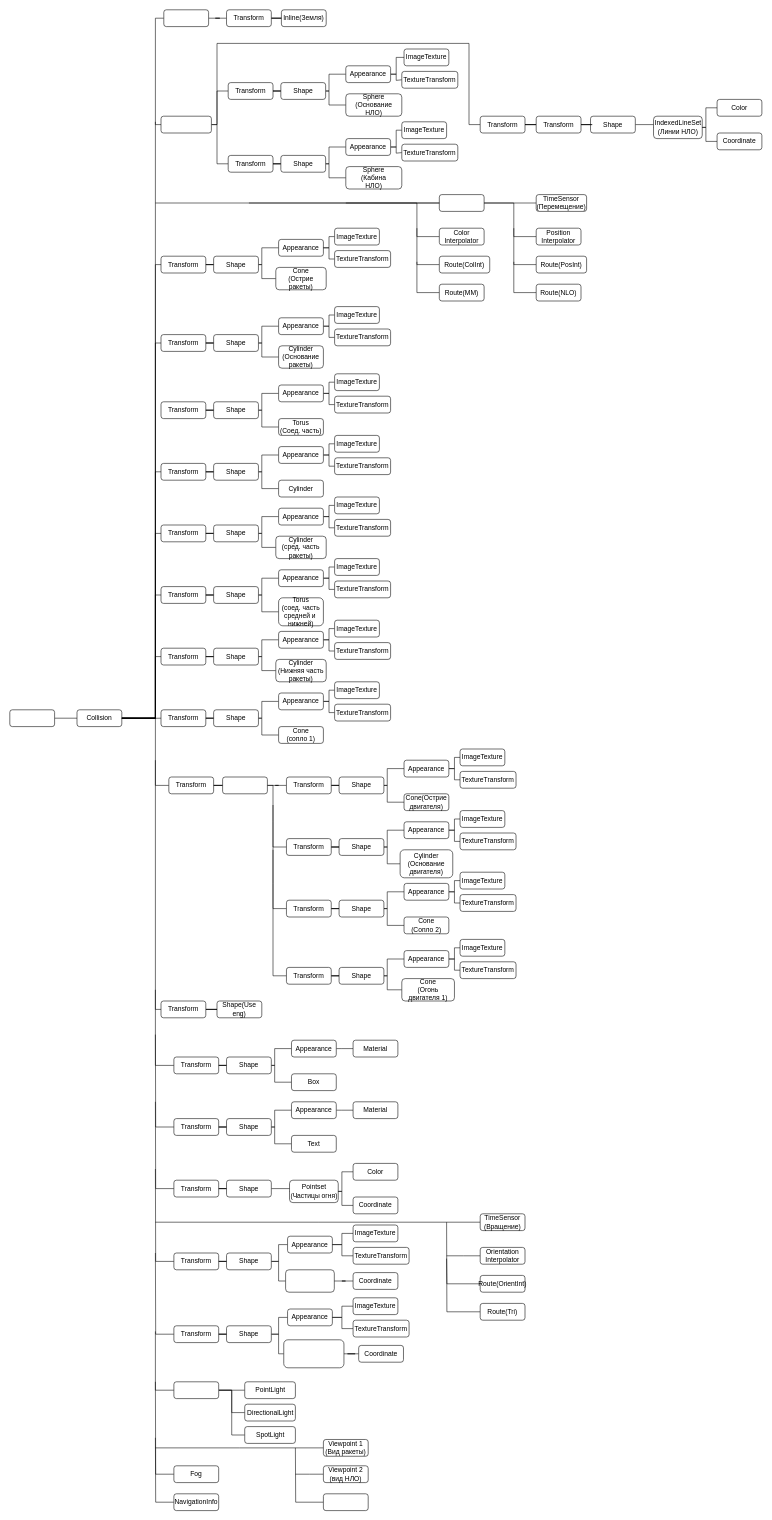
Some shapes in this 772 by 1520 pixel diagram are drawn without their labels. The centre of each missing label's shape, as x and y in pixels:
Anchor: (x=186, y=18)
Group(DEF eng): (x=244, y=785)
Group(Свет): (x=196, y=1390)
IndexedFaceSet (Доп огонь сопла): (x=309, y=1280)
IndexedTriangle Set (Илюмы): (x=313, y=1353)
Scene: (x=32, y=718)
TimeSensor (Цвет): (x=461, y=202)
Transform(NLO): (x=185, y=124)
Viewpoint 3 (Общий план): (x=345, y=1502)
